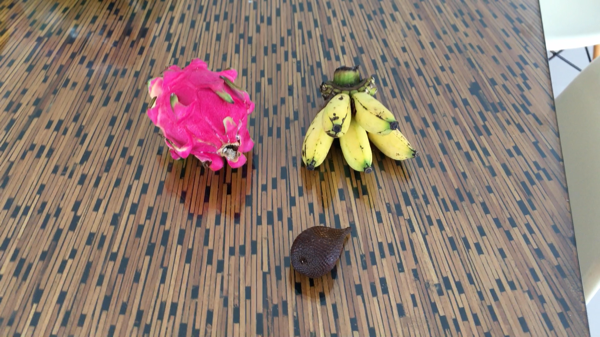banana: (301, 67, 415, 176)
dragon fruit: (147, 56, 255, 175)
snake fruit: (290, 223, 353, 277)
